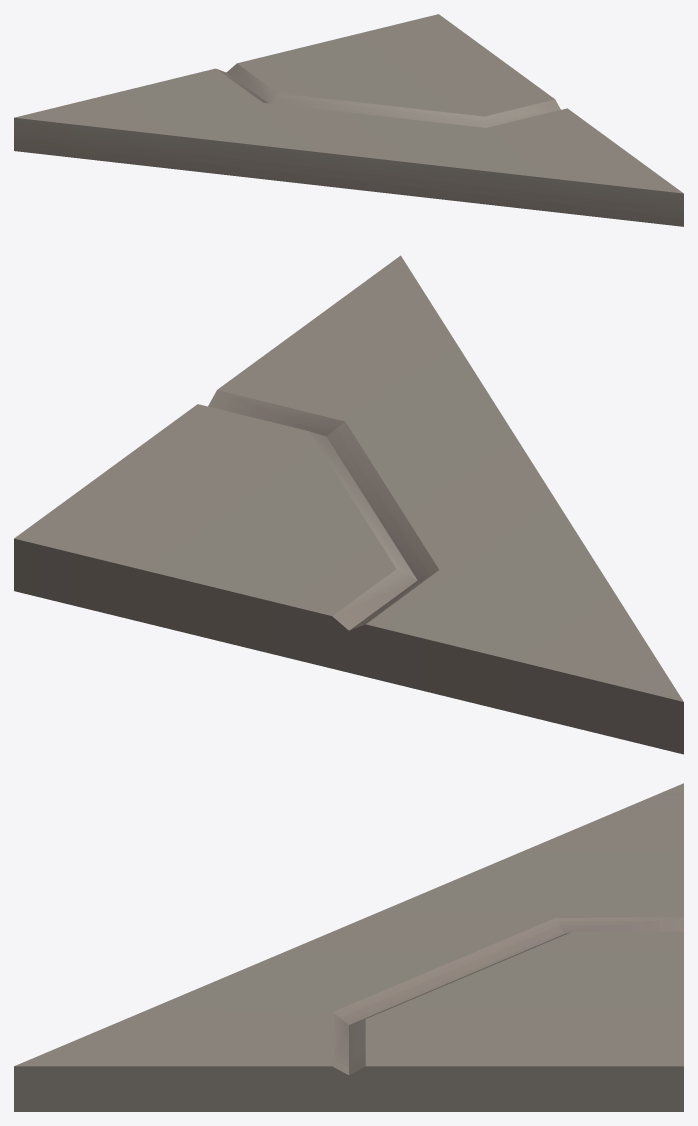
Rendered from kaykit-dungeon-remastered-floor-tile-small-corner-gltf.glb.
3 views of the same model, one above another, from view 1: azimuth 30°, elevation 25°; view 2: azimuth 150°, elevation 25°; view 3: azimuth 270°, elevation 25° (orthographic). The views are drawn at different scales.
Visible parts, largest first — view 1: floor_tile_small_corner; view 2: floor_tile_small_corner; view 3: floor_tile_small_corner.
Part boxes in pixels (x1,y1,x2,y2): floor_tile_small_corner: [14, 14, 683, 226]; floor_tile_small_corner: [14, 255, 683, 754]; floor_tile_small_corner: [14, 783, 683, 1111].
Size of the model in its own units: 2 by 0.1499 by 2.
Materials: 1 (1 with a texture image).
